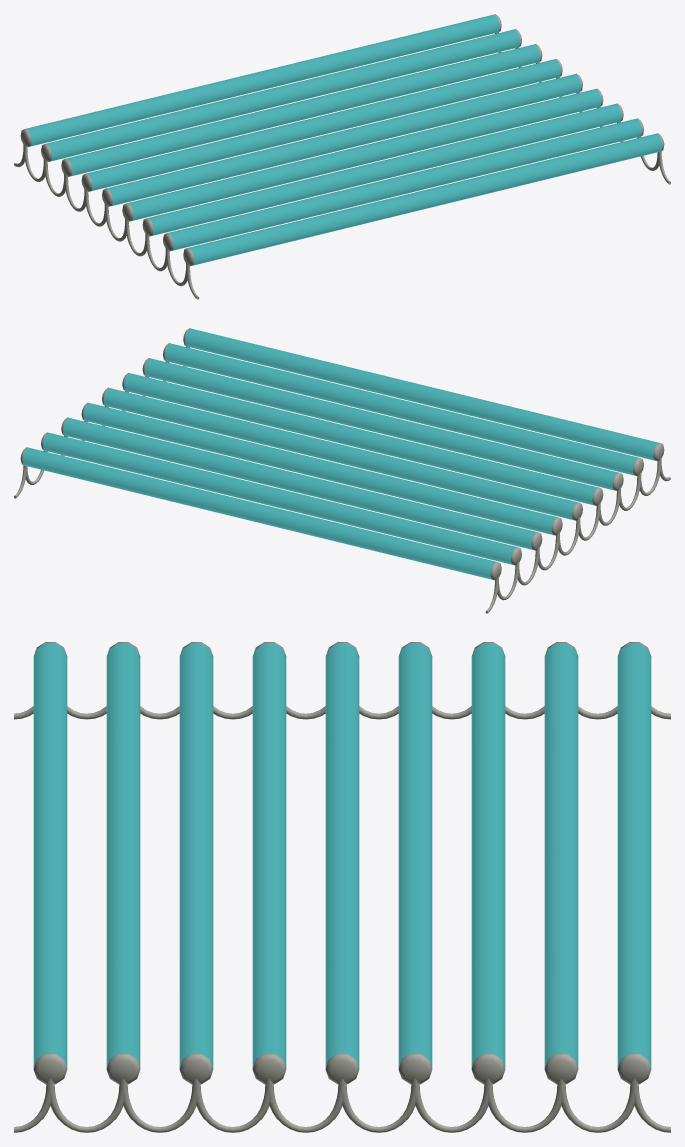
Rendered from CA_138_electrifying_bars.glb.
3 views of the same model, one above another, from view 1: azimuth 30°, elevation 25°; view 2: azimuth 150°, elevation 25°; view 3: azimuth 270°, elevation 25° (orthographic). The views are drawn at different scales.
Parts seen in each view (by area): view 1: electrifying_bars; view 2: electrifying_bars; view 3: electrifying_bars.
Boxes of the visible parts, x1,y1,x2,y2 form: electrifying_bars: [14, 14, 670, 299]; electrifying_bars: [14, 328, 670, 613]; electrifying_bars: [14, 642, 670, 1132].
Bounding box in the file's own units: 2.25 × 0.1949 × 1.5.
